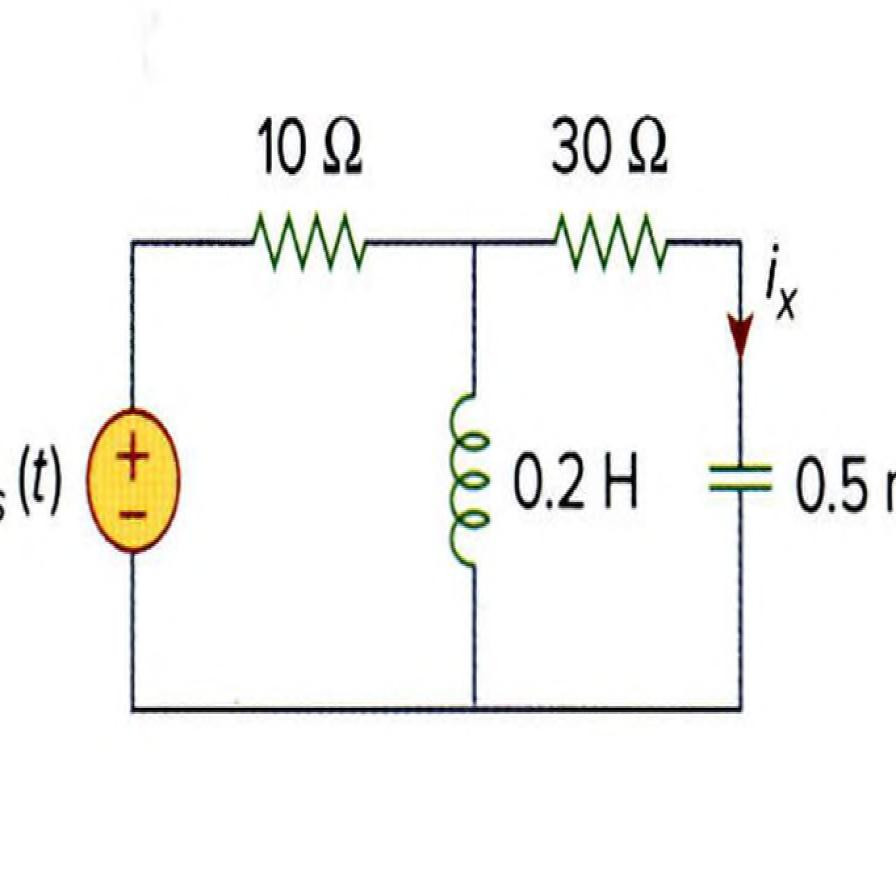C2: (688, 425, 790, 528)
L2: (434, 378, 504, 588)
